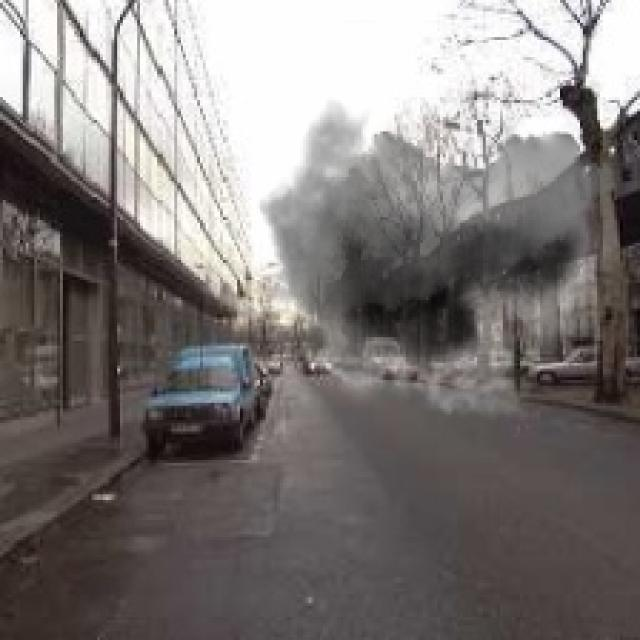Smoke: (225, 20, 620, 437)
